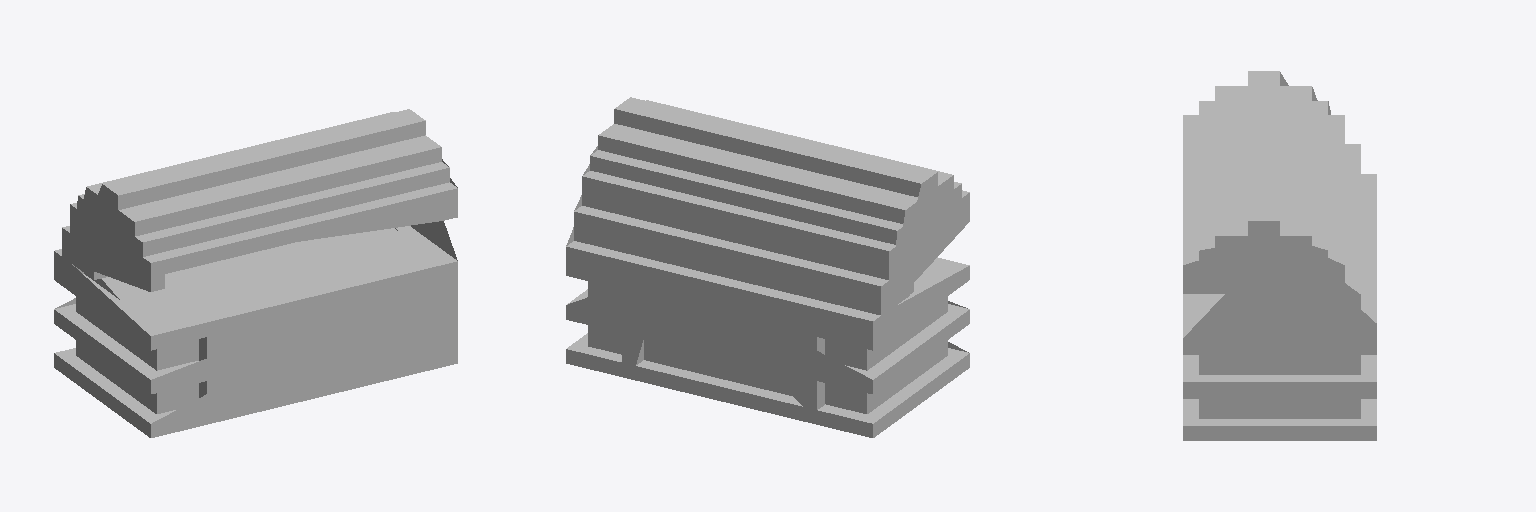
File: Chest_Big_Open_Treasure.obj
3 renders of one model, left to right at view 1: azimuth 30°, elevation 25°; view 2: azimuth 150°, elevation 25°; view 3: azimuth 270°, elevation 25°, orthographic.
Visible parts, largest first — view 1: Chest_Big_Open_Treasure_Chest_Big_Open_Treasure.003; view 2: Chest_Big_Open_Treasure_Chest_Big_Open_Treasure.003; view 3: Chest_Big_Open_Treasure_Chest_Big_Open_Treasure.003.
Part boxes in pixels (x1,y1,x2,y2): Chest_Big_Open_Treasure_Chest_Big_Open_Treasure.003: (54, 109, 457, 437); Chest_Big_Open_Treasure_Chest_Big_Open_Treasure.003: (566, 97, 969, 437); Chest_Big_Open_Treasure_Chest_Big_Open_Treasure.003: (1183, 71, 1376, 440).
Bounding box in the file's own units: 2.2 × 1.5 × 1.2.